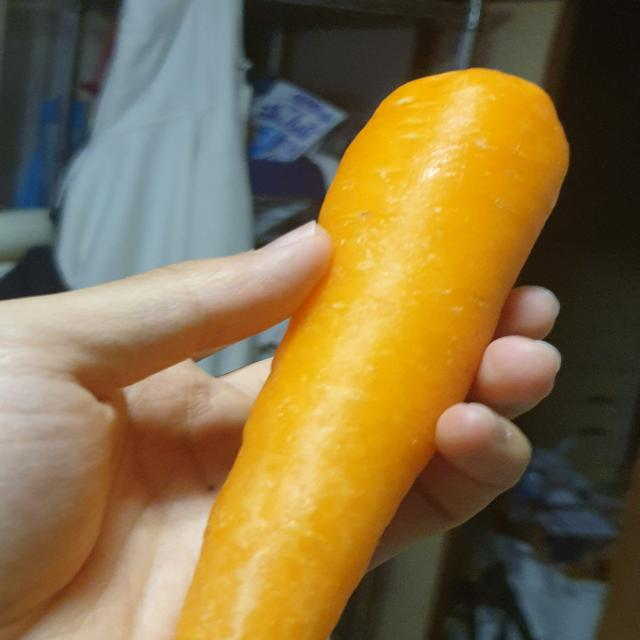Carrot: (164, 56, 592, 640)
